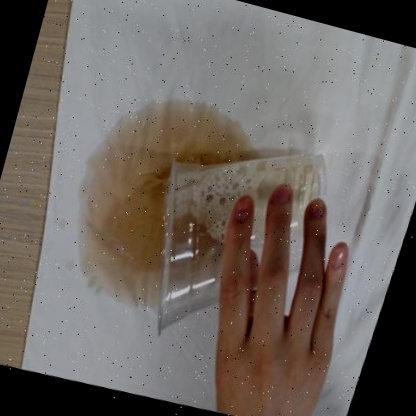coffee: (72, 142, 171, 280), (141, 103, 235, 160)
